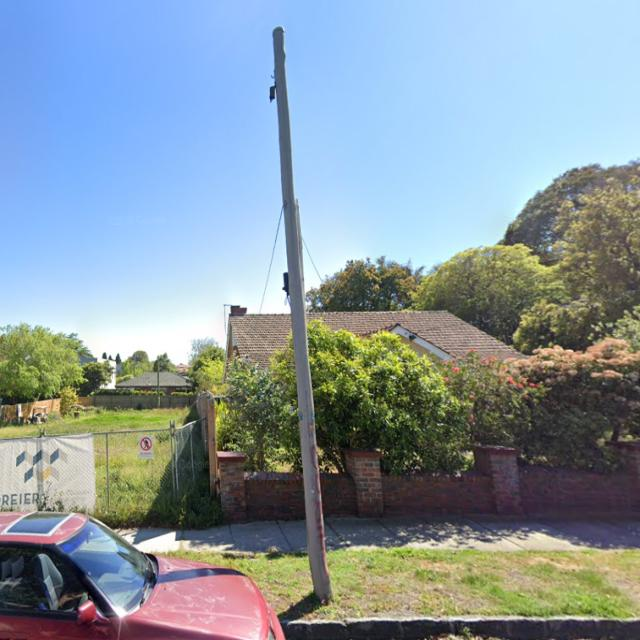timber-pole: (271, 26, 334, 604)
